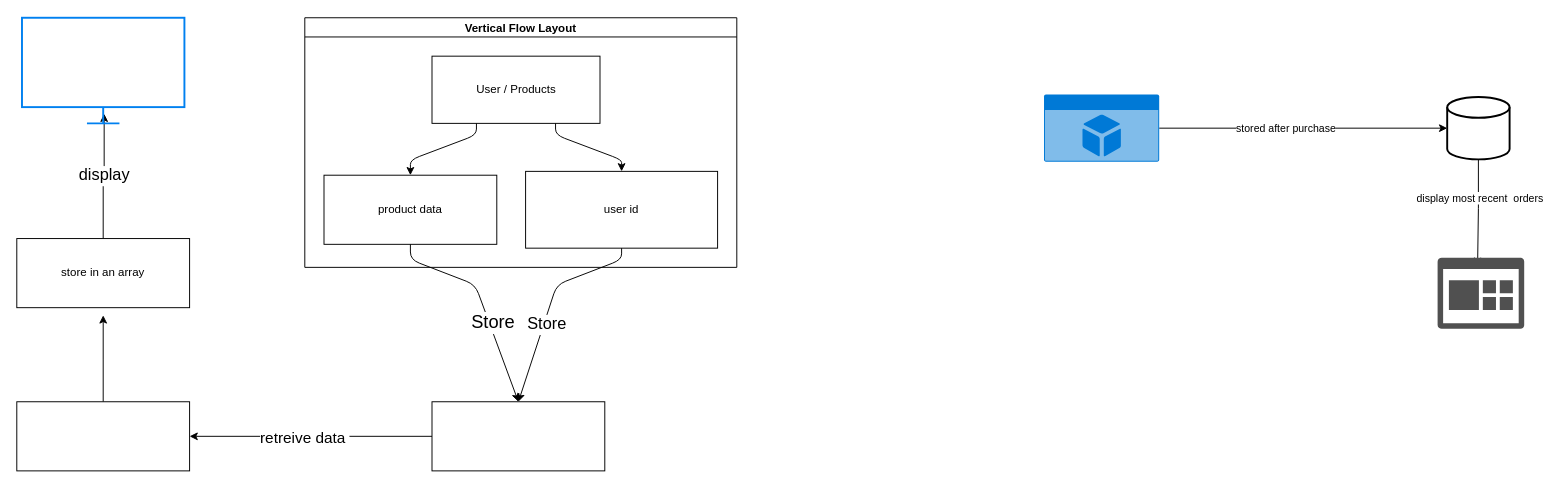
The diagram is 1560 pixels wide and 488 high, and some of its shapes have lost their labels. Each missing label, with the centre of its shape:
"Products" goes at (x=1101, y=127).
"products data with userId" goes at (x=103, y=436).
"store on database" goes at (x=518, y=436).
